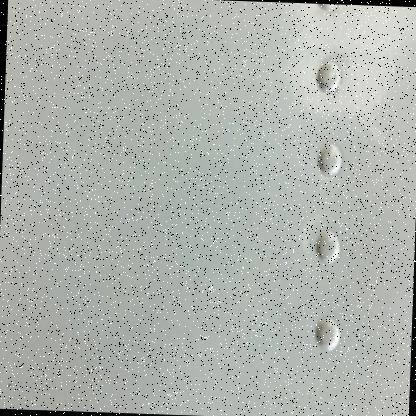Nocrack: (0, 4, 403, 415)
